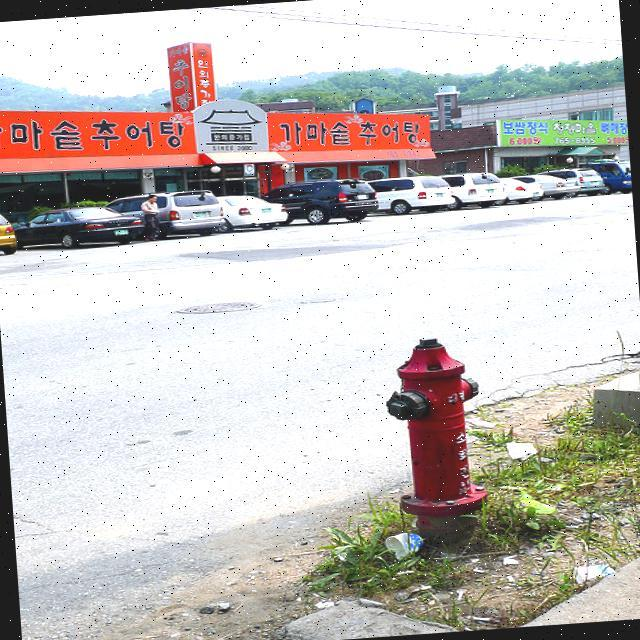fire_hydrant: (380, 334, 490, 536)
